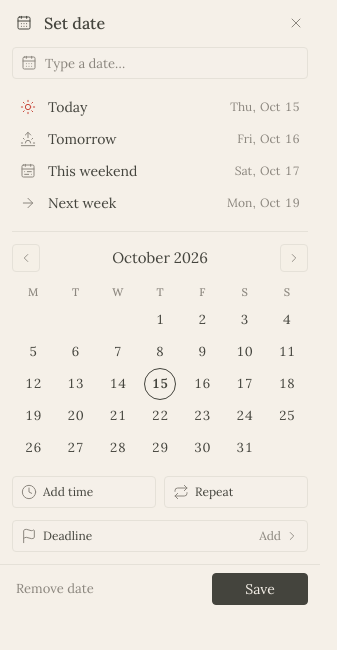
Test case: TaskDatePickerPanel › date screen › says so when the typed text holds no date
The image size is (337, 650).
Type "someday" into the field labelled "Type a date…".
click(172, 63); type("someday")  # box [45, 48, 299, 78]
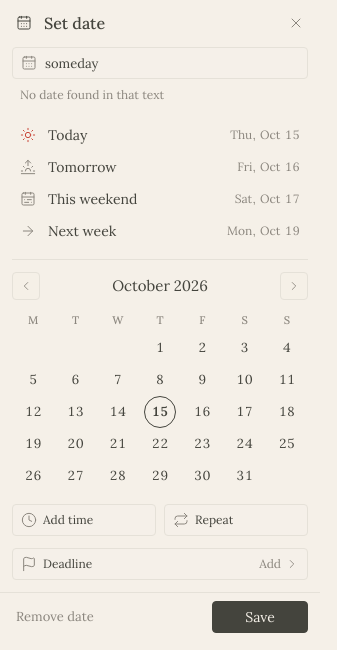
Check: the text "No date found in that text" is shown, box [20, 87, 164, 102]
